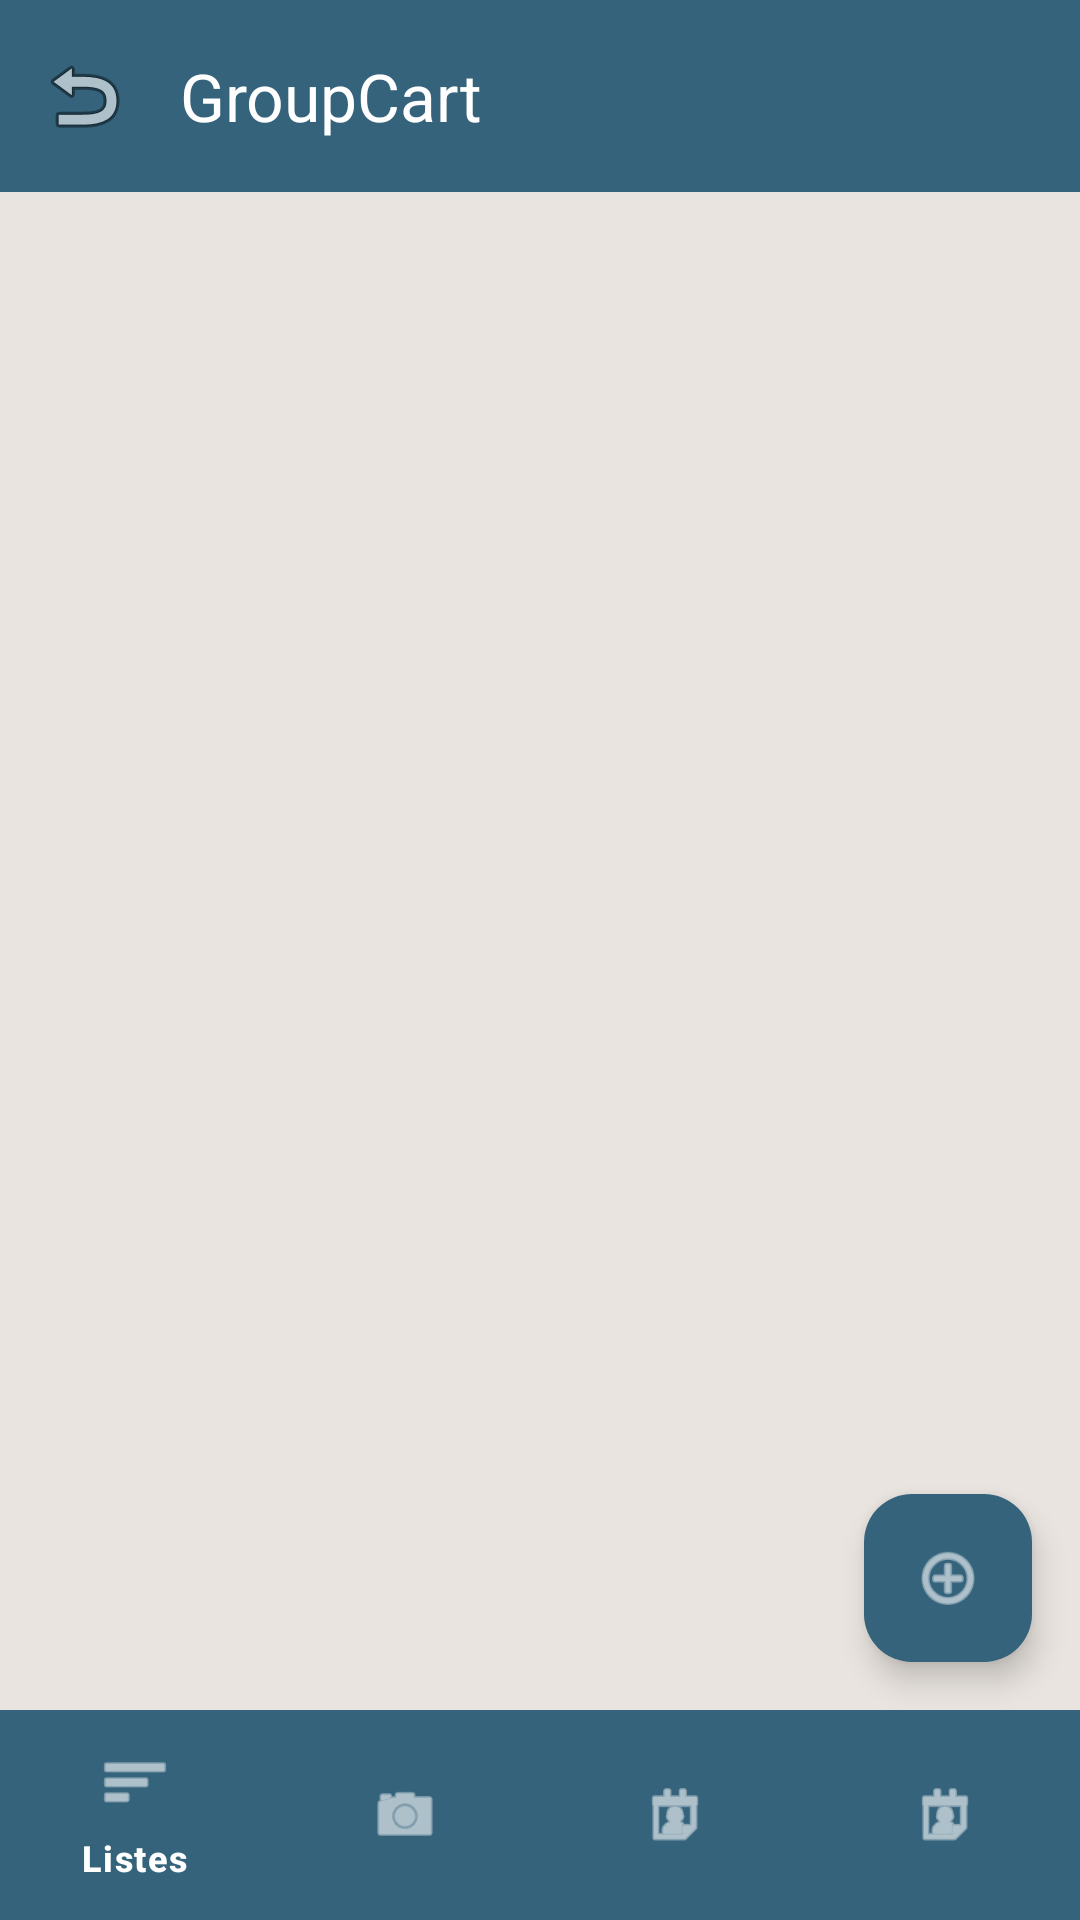

Icons on this 1080x1920 Android screen, each with the point to tap as [x,y]:
add: [948,1578]
